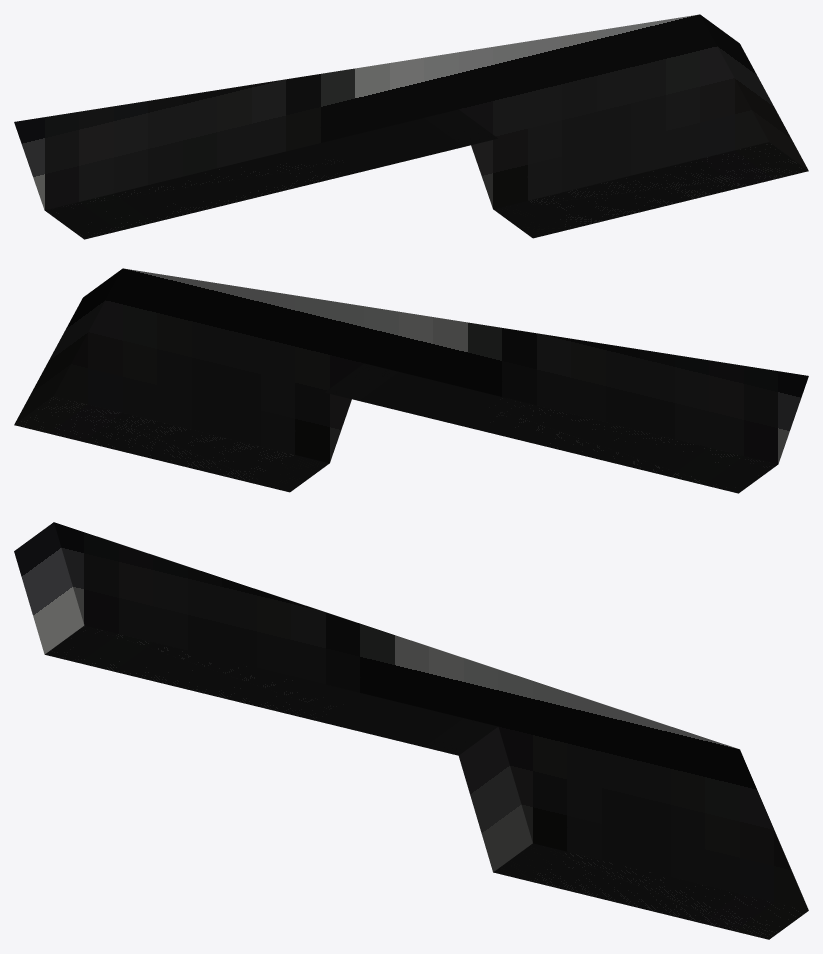
File: npcs_05.glb
The picture shows the model from 3 angles, top to bottom: view 1: azimuth 30°, elevation 25°; view 2: azimuth 150°, elevation 25°; view 3: azimuth 330°, elevation 25°; orthographic projection.
Parts seen in each view (by area): view 1: world; view 2: world; view 3: world.
Boxes of the visible parts, x1=… form: world: x1=14, y1=14, x2=808, y2=239; world: x1=14, y1=268, x2=808, y2=493; world: x1=14, y1=522, x2=808, y2=939.
Size of the model in its own units: 0.2189 by 0.0566 by 0.02.
1 material, 1 textured.
